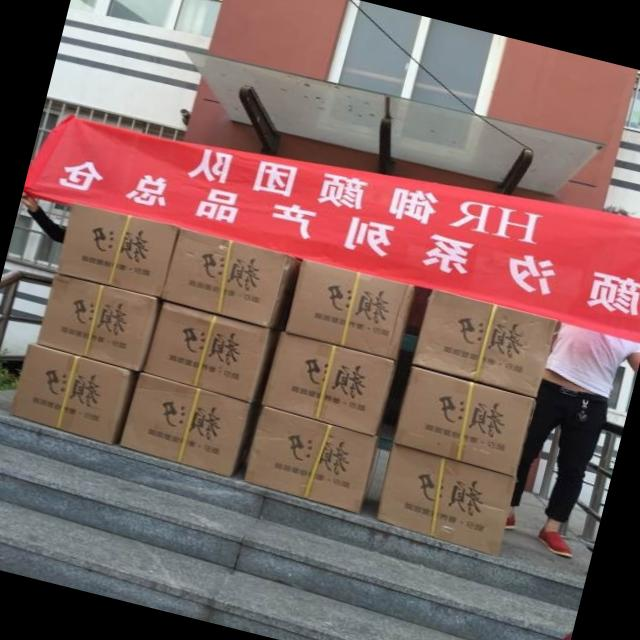box: (391, 365, 532, 478), (414, 289, 560, 397), (376, 445, 514, 554), (243, 406, 376, 511), (260, 332, 394, 435), (121, 370, 252, 475), (141, 299, 270, 404), (162, 228, 290, 327), (10, 342, 133, 443), (285, 261, 410, 359), (38, 270, 160, 369), (59, 202, 177, 297)
